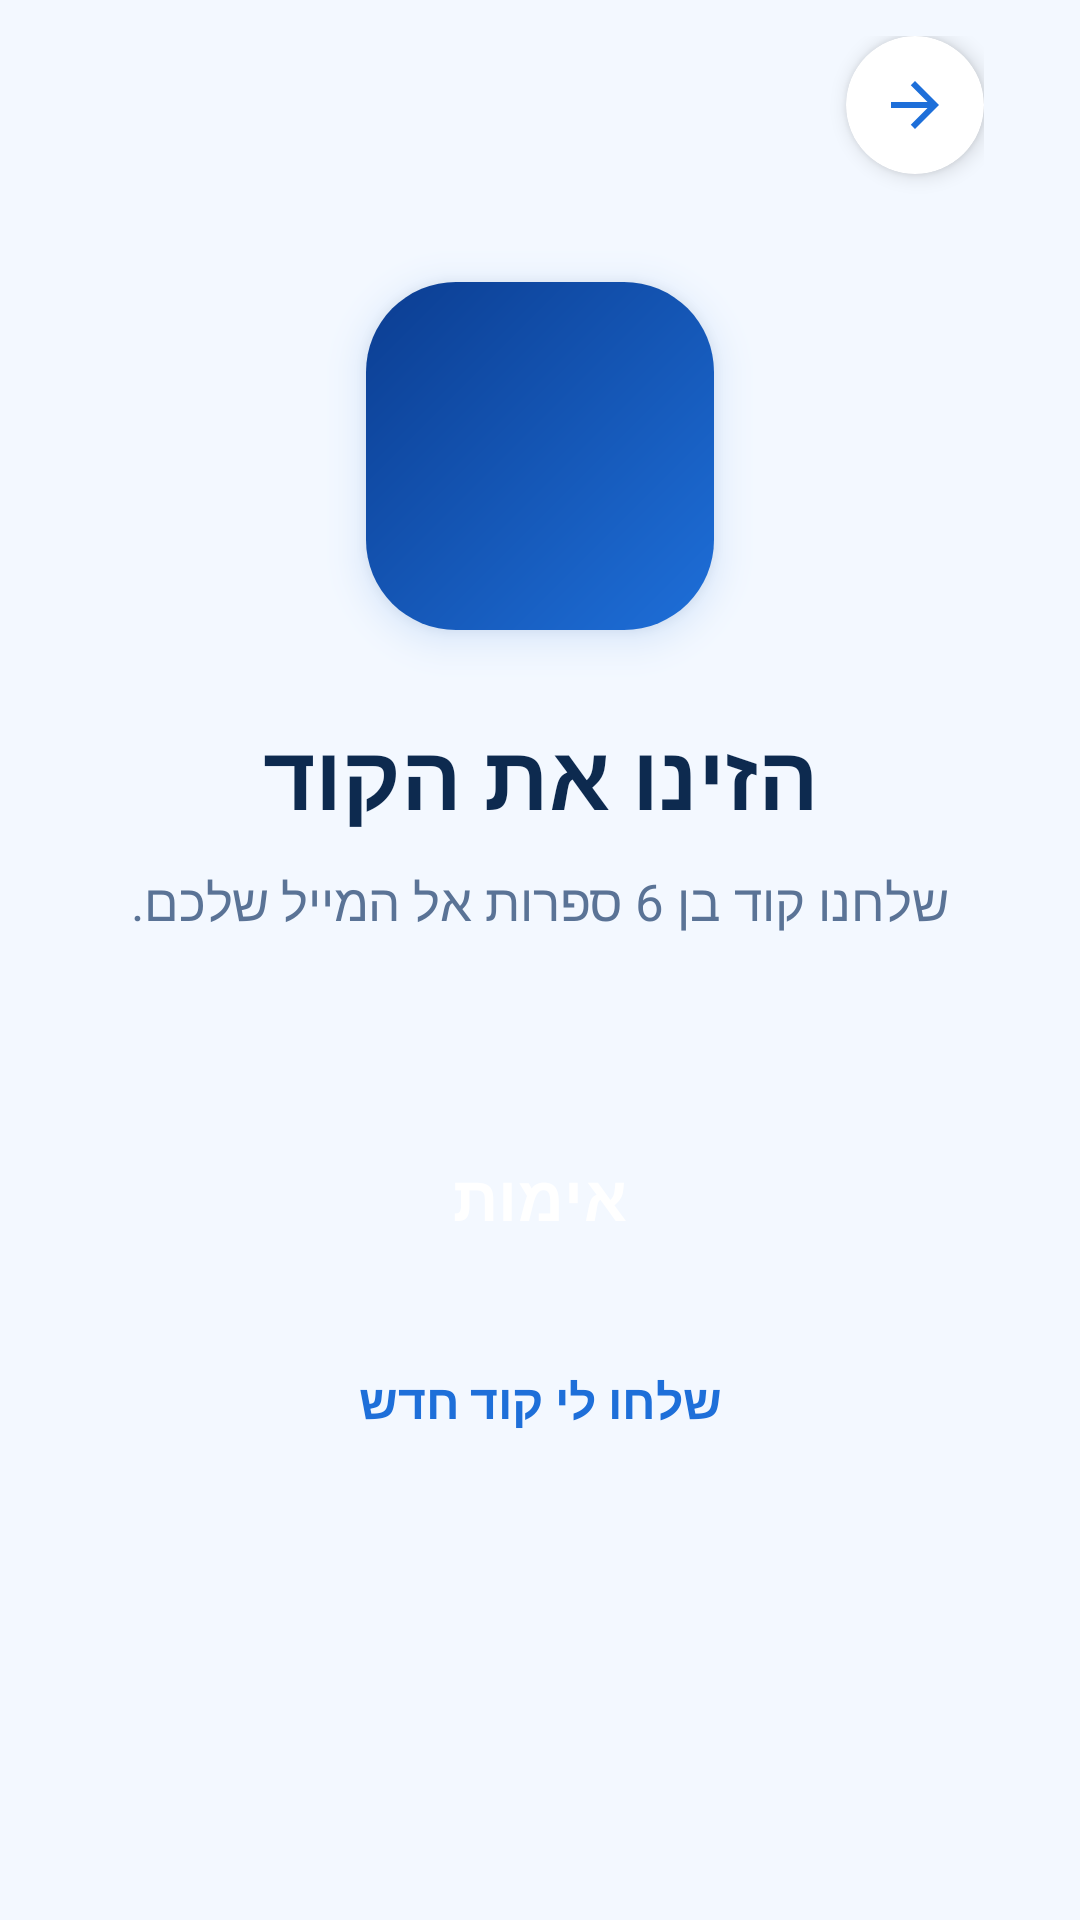

Locate icon controls on the screen. Image size 1080px×1920px, boxes as (x1, y1, x2, y2).
חזרה: (891, 81, 939, 129)
